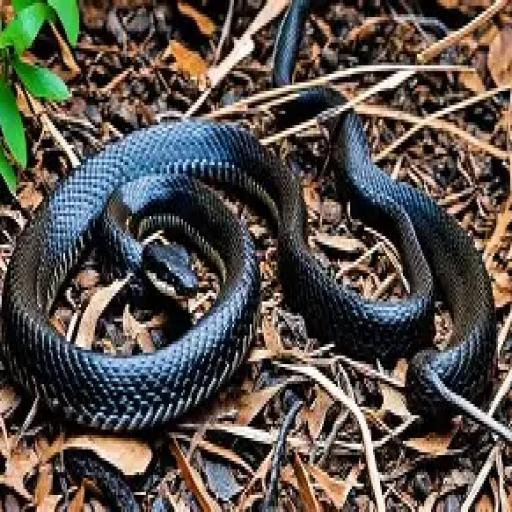snake: (2, 111, 496, 429)
